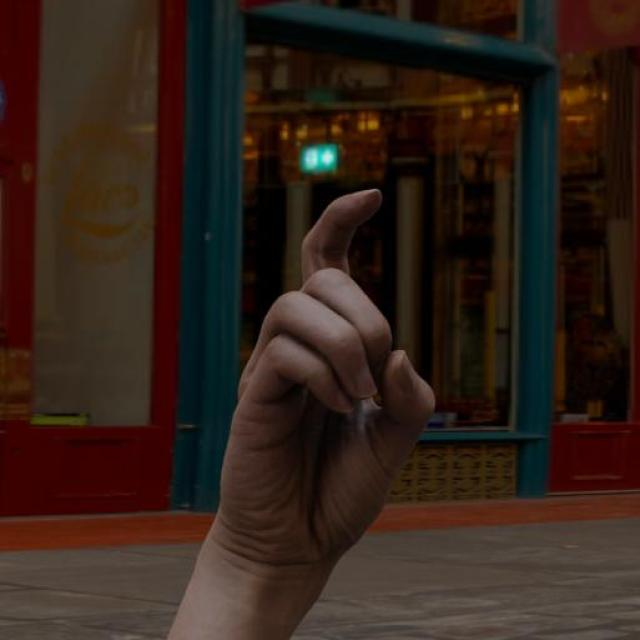X: (188, 180, 452, 640)
